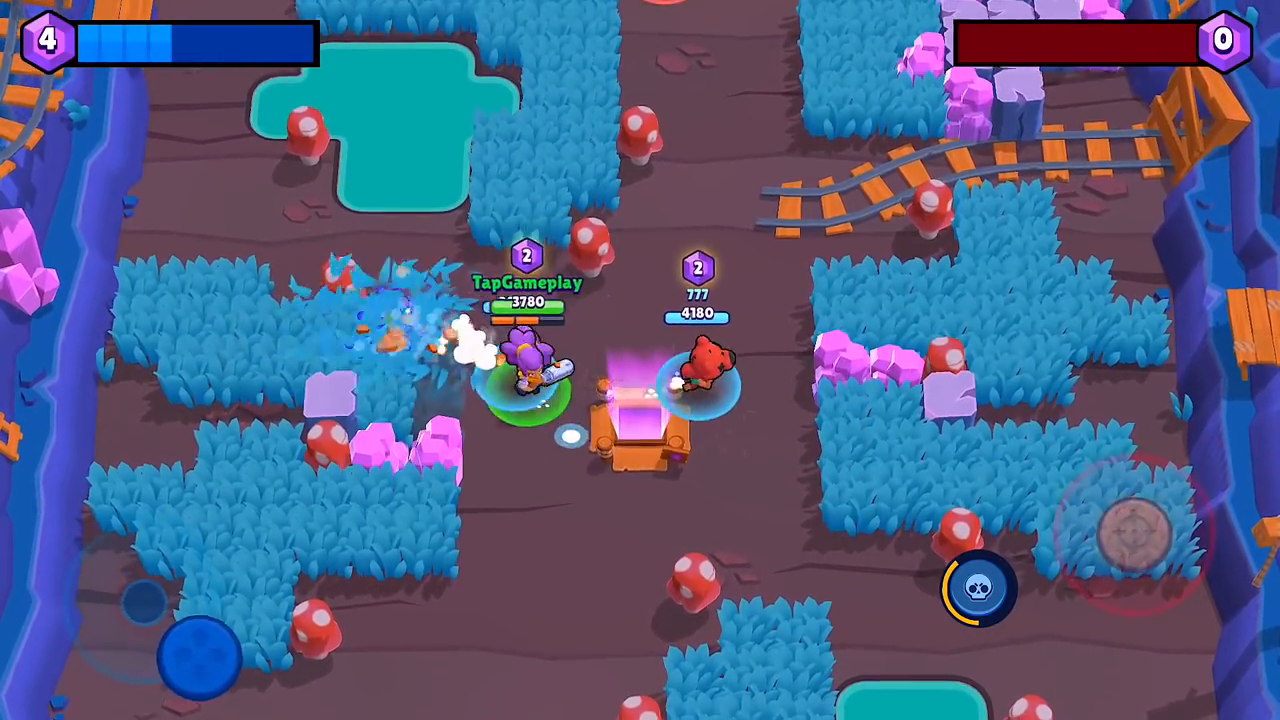move_stick: (157, 618, 252, 694)
